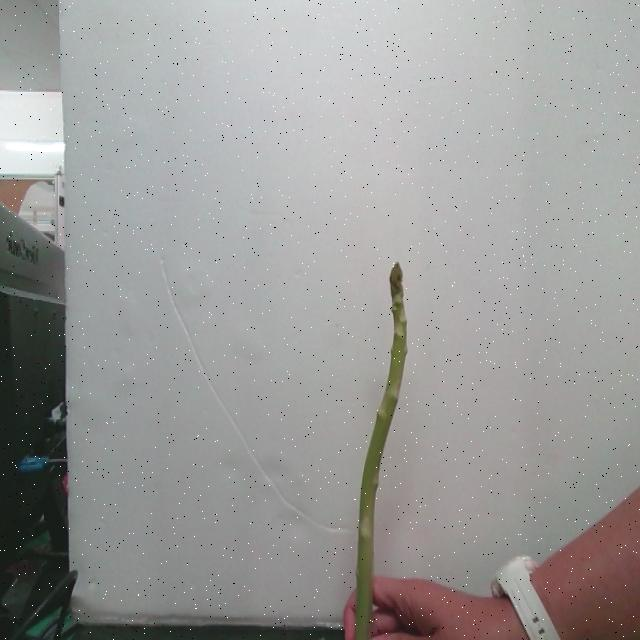aspargus: (351, 265, 408, 640)
